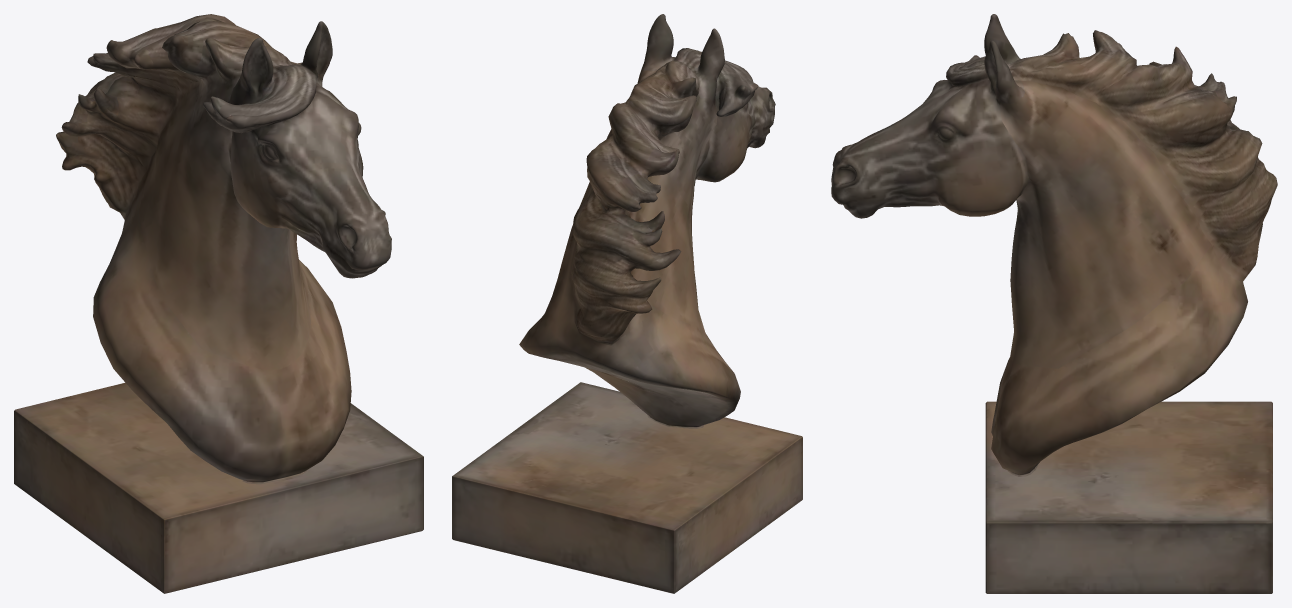
File: horse_head.glb
3 views of the same model, side by side, from view 1: azimuth 30°, elevation 25°; view 2: azimuth 150°, elevation 25°; view 3: azimuth 270°, elevation 25° (orthographic). The views are drawn at different scales.
Parts seen in each view (by area): view 1: horse_head; view 2: horse_head; view 3: horse_head.
Part boxes in pixels (left/top/right/bottom): horse_head: left=14, top=14, right=423, bottom=593; horse_head: left=452, top=14, right=802, bottom=593; horse_head: left=831, top=14, right=1277, bottom=593.
Bounding box in the file's own units: 0.2149 × 0.4187 × 0.3341.
1 material, 1 textured.
